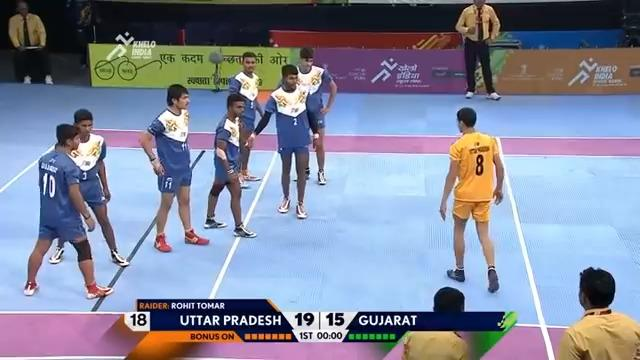Player: (23, 123, 114, 298), (47, 108, 130, 267), (138, 83, 209, 252), (245, 63, 318, 218), (203, 92, 257, 238), (556, 266, 639, 359), (291, 46, 337, 184), (401, 286, 473, 359), (227, 51, 265, 182)
Raider: (438, 106, 505, 293)
referee: (454, 0, 501, 100), (7, 0, 53, 84)
